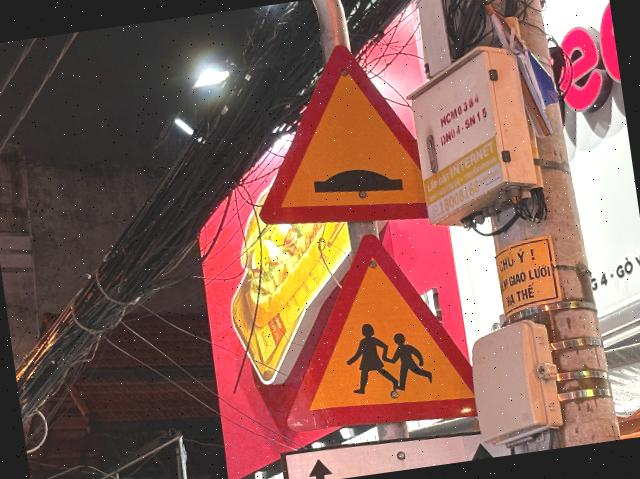duong-co-go-giam-toc: (236, 34, 430, 241)
tre-em-qua-duong: (262, 222, 478, 442)
